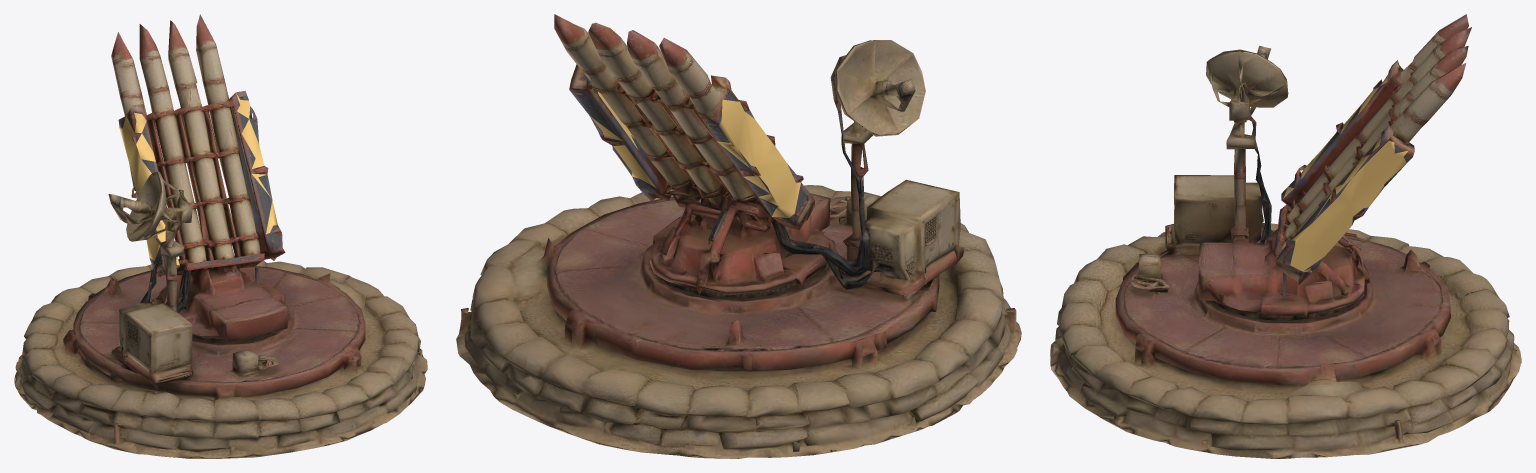
Rendered from sam_site.glb.
3 renders of one model, left to right at view 1: azimuth 30°, elevation 25°; view 2: azimuth 150°, elevation 25°; view 3: azimuth 270°, elevation 25°, orthographic. The views are drawn at different scales.
Visible parts, largest first — view 1: Model; view 2: Model; view 3: Model.
Part boxes in pixels (x1,y1,x2,y2): Model: (14,14,427,458); Model: (456,14,1021,458); Model: (1050,14,1521,458).
Bounding box in the file's own units: 2 × 1.57 × 2.
Materials: 2 (1 with a texture image).
